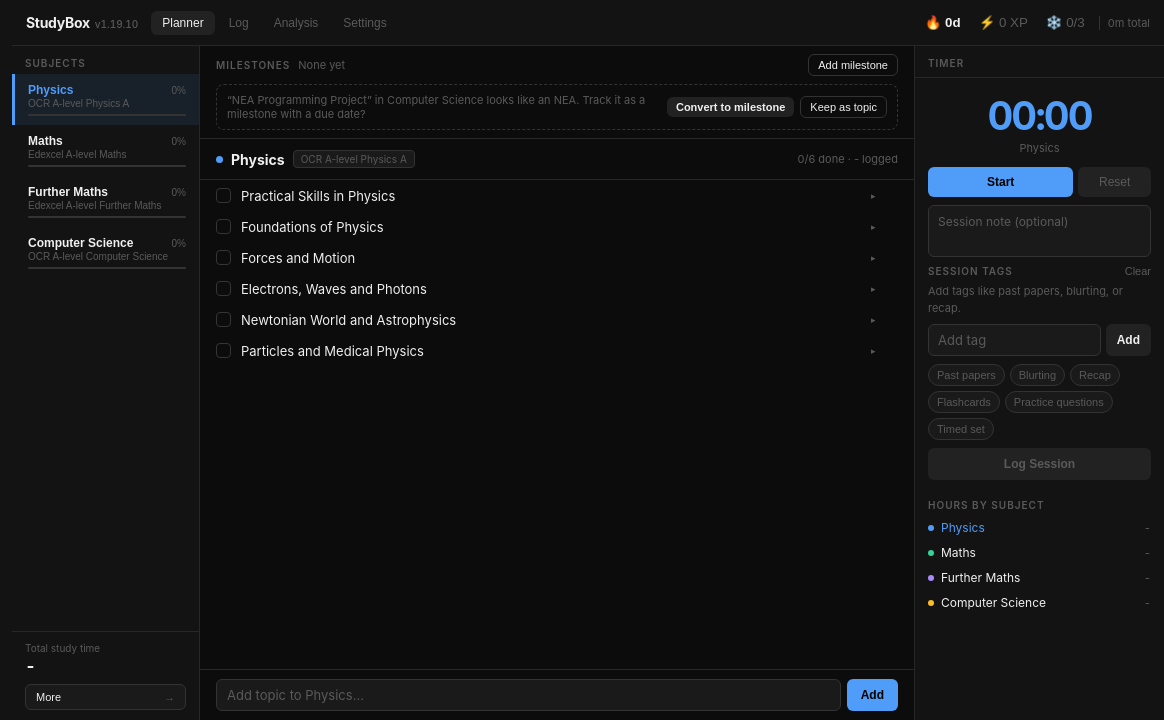
Test: StudyBox shell › handles streak and XP on logging sessions and checking topics
Check: the text "🔥 0d" is shown, box [925, 15, 961, 30]
Check: the text "⚡ 0 XP" is shown, box [979, 15, 1028, 30]
Click the button "Start" at (1001, 182), box [928, 167, 1073, 197]
Wait 120000 ms
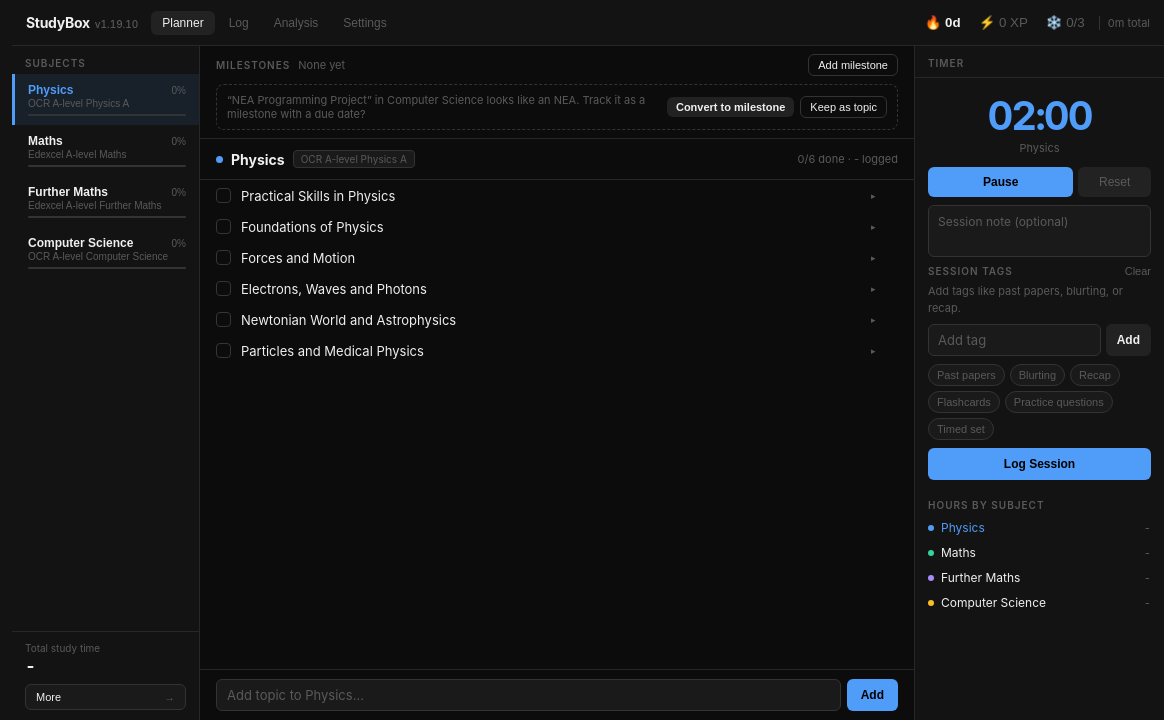
Click the button "Log Session" at (1040, 464), box [928, 448, 1151, 480]
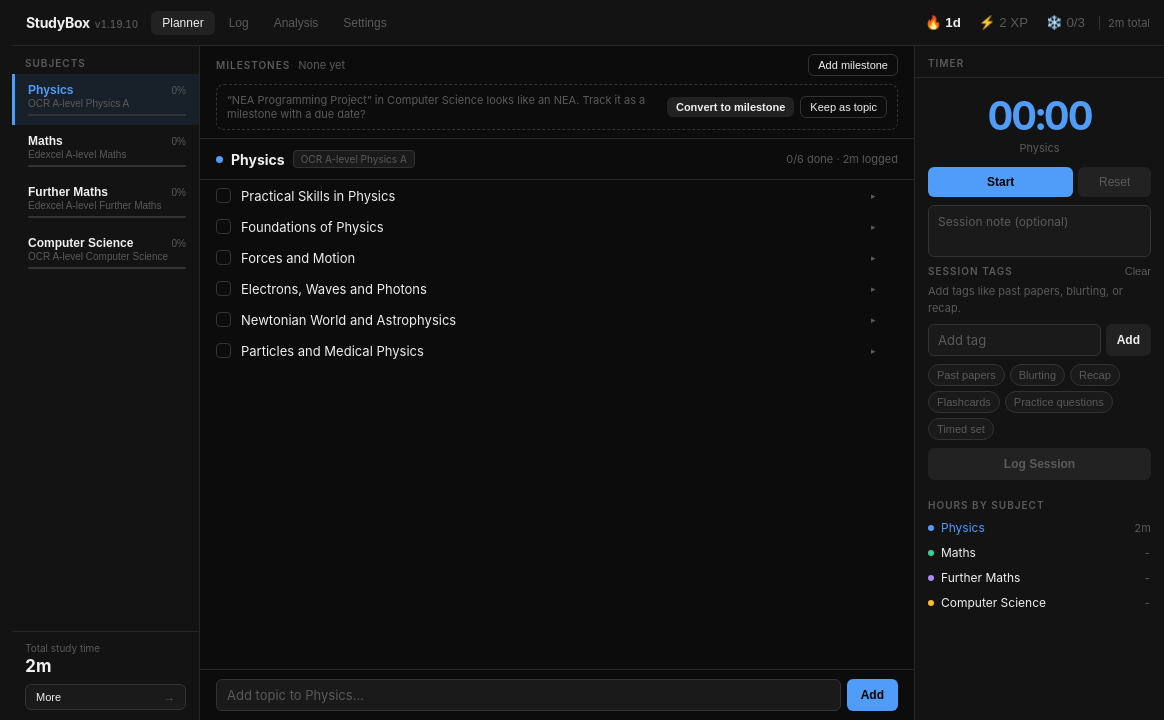
Check: the text "🔥 1d" is shown, box [925, 15, 961, 30]
Check: the text "⚡ 2 XP" is shown, box [979, 15, 1028, 30]
Click the checkbox named "Complete topic Practical Skills in Physics" at (224, 196), box [216, 188, 231, 203]
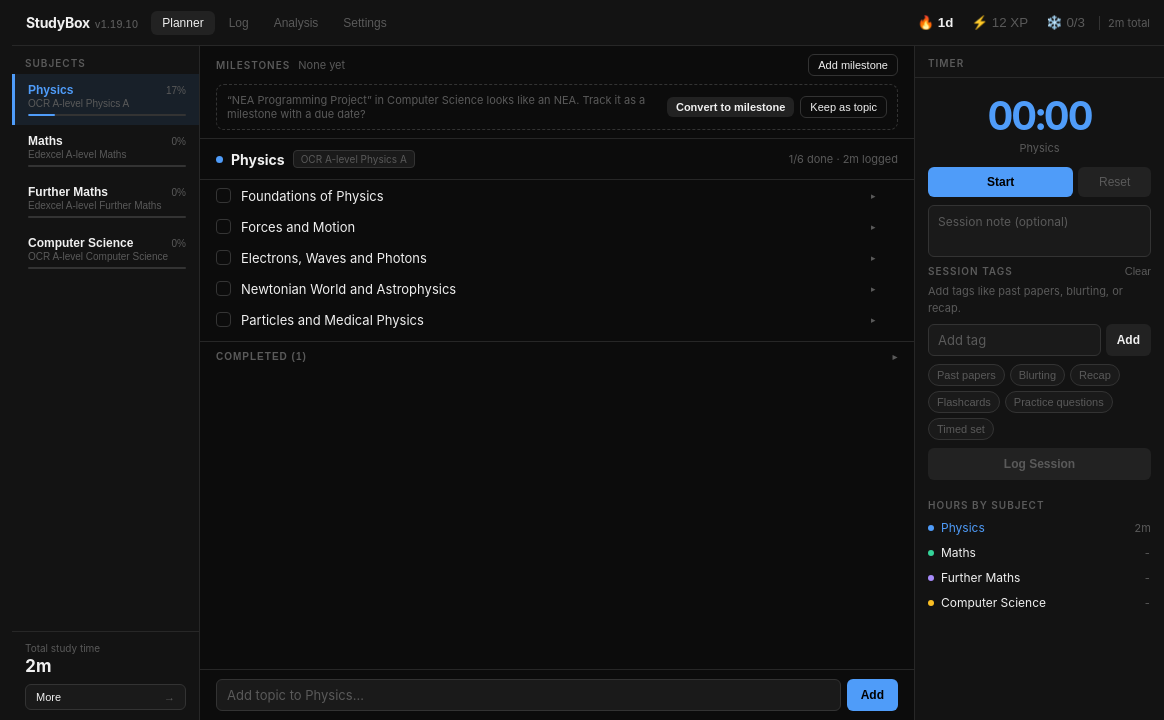
Check: the text "⚡ 12 XP" is shown, box [971, 15, 1028, 30]
